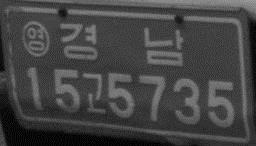1: (22, 65, 46, 112)
3: (171, 76, 201, 125)
5: (205, 78, 236, 128), (105, 70, 135, 120), (52, 67, 82, 115)
7: (137, 73, 167, 122)
경남_D: (58, 20, 185, 67)
고: (80, 70, 107, 115)
영: (20, 18, 53, 58)
